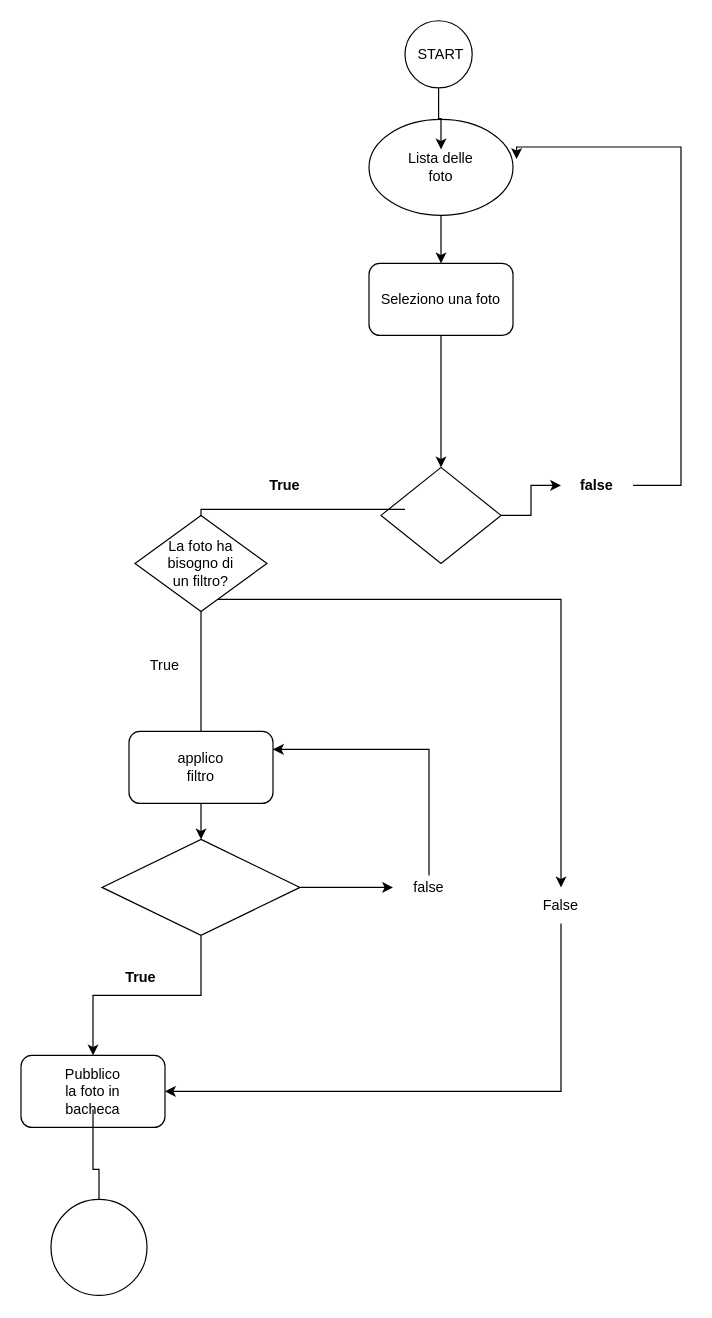
The diagram is 712 pixels wide and 1318 high, and some of its shapes have lost their labels. The shapes that lost their labels are listed below. From the top down, each one's centre as x and y in pixels, then its label:
At point (440, 514): "è la miglior foto?".
At point (200, 886): "L'iimagine ha la giusta luminosità ,colore".
At point (98, 1246): "FINE".
